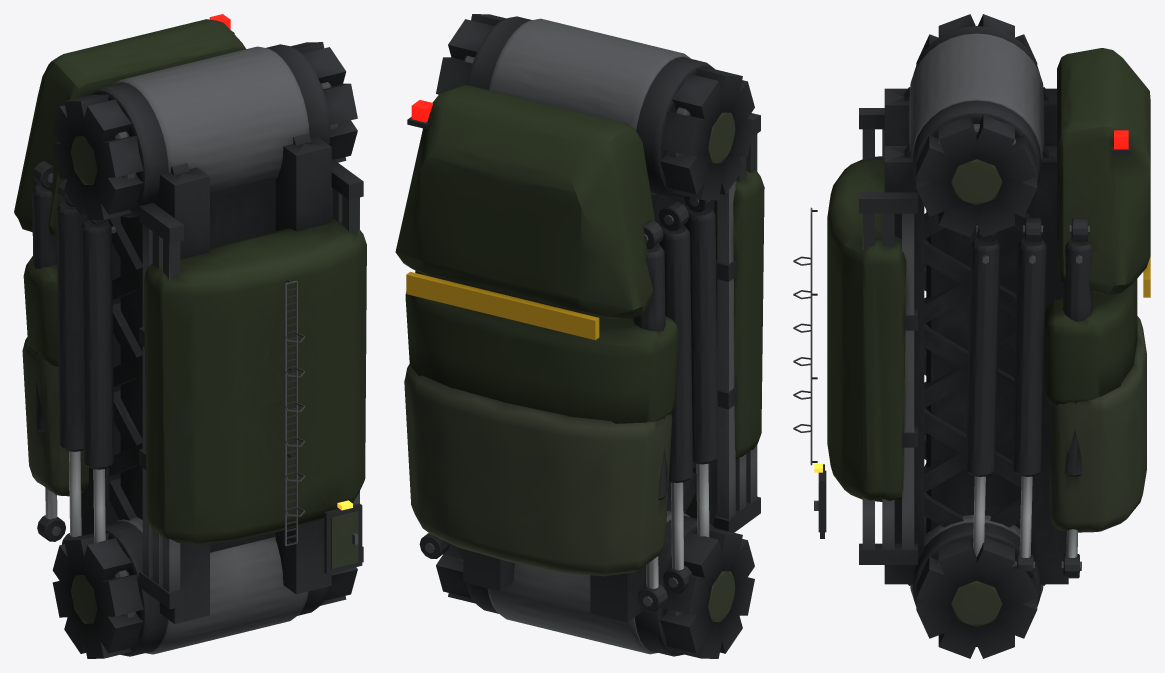
The model's file is bastion.shin.glb.
3 renders of one model, left to right at view 1: azimuth 30°, elevation 25°; view 2: azimuth 150°, elevation 25°; view 3: azimuth 270°, elevation 25°, orthographic. The views are drawn at different scales.
Bounding box in the file's own units: 11.05 × 24.38 × 14.52.
